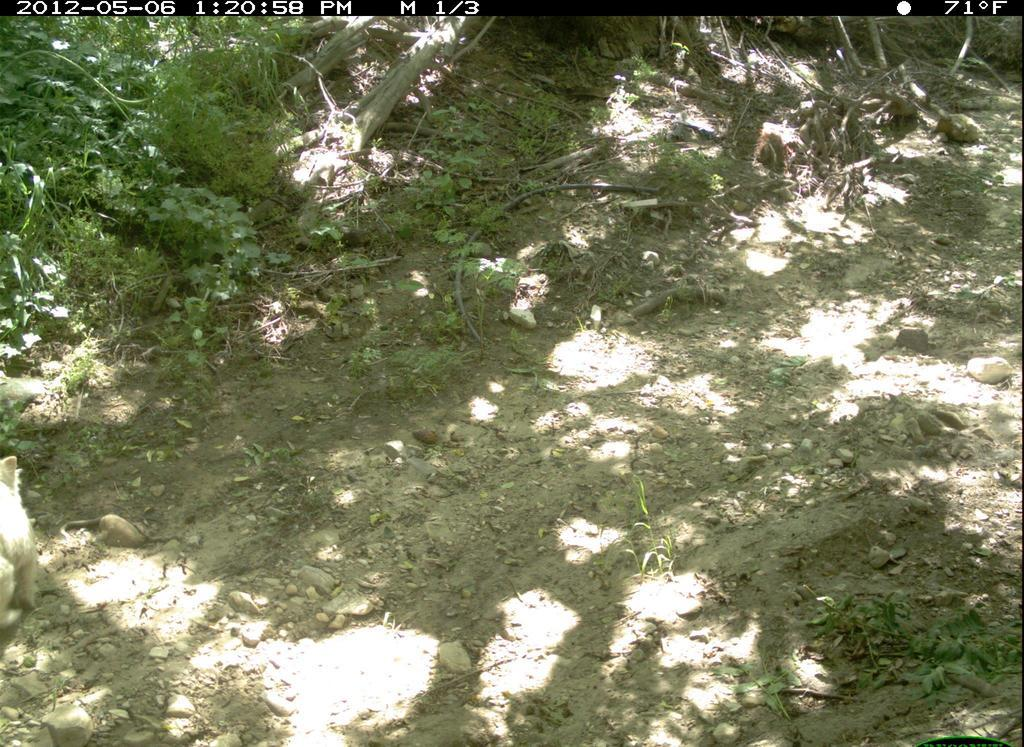dog: (2, 440, 48, 635)
